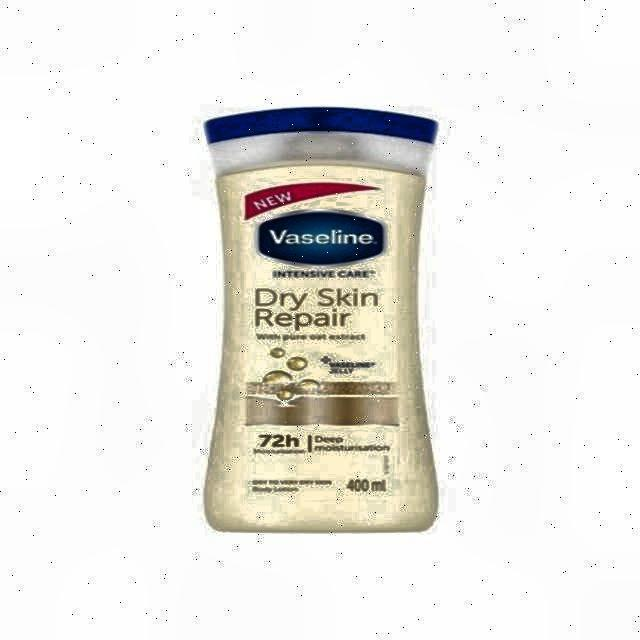plastic: (201, 85, 441, 536)
